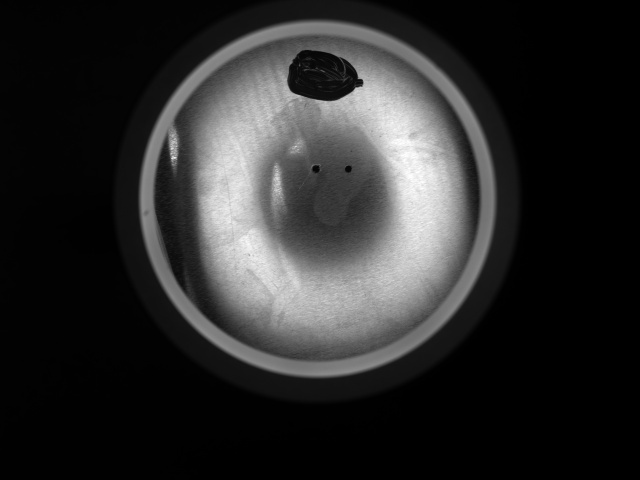zang_wu: (284, 47, 367, 104)
zhen_kong: (310, 161, 324, 177), (342, 162, 354, 175)
